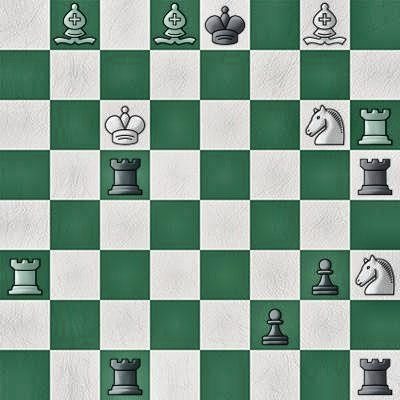black-king: (200, 0, 250, 50)
black-pawn: (300, 250, 350, 300), (250, 300, 300, 350)
black-rook: (100, 150, 150, 200), (350, 150, 400, 200), (100, 350, 150, 400), (350, 350, 400, 400)
white-bishop: (50, 0, 100, 50), (150, 0, 200, 50), (300, 0, 350, 50)
white-king: (100, 100, 150, 150)
white-knight: (300, 100, 350, 150), (350, 250, 400, 300)
white-rook: (350, 100, 400, 150), (0, 250, 50, 300)
